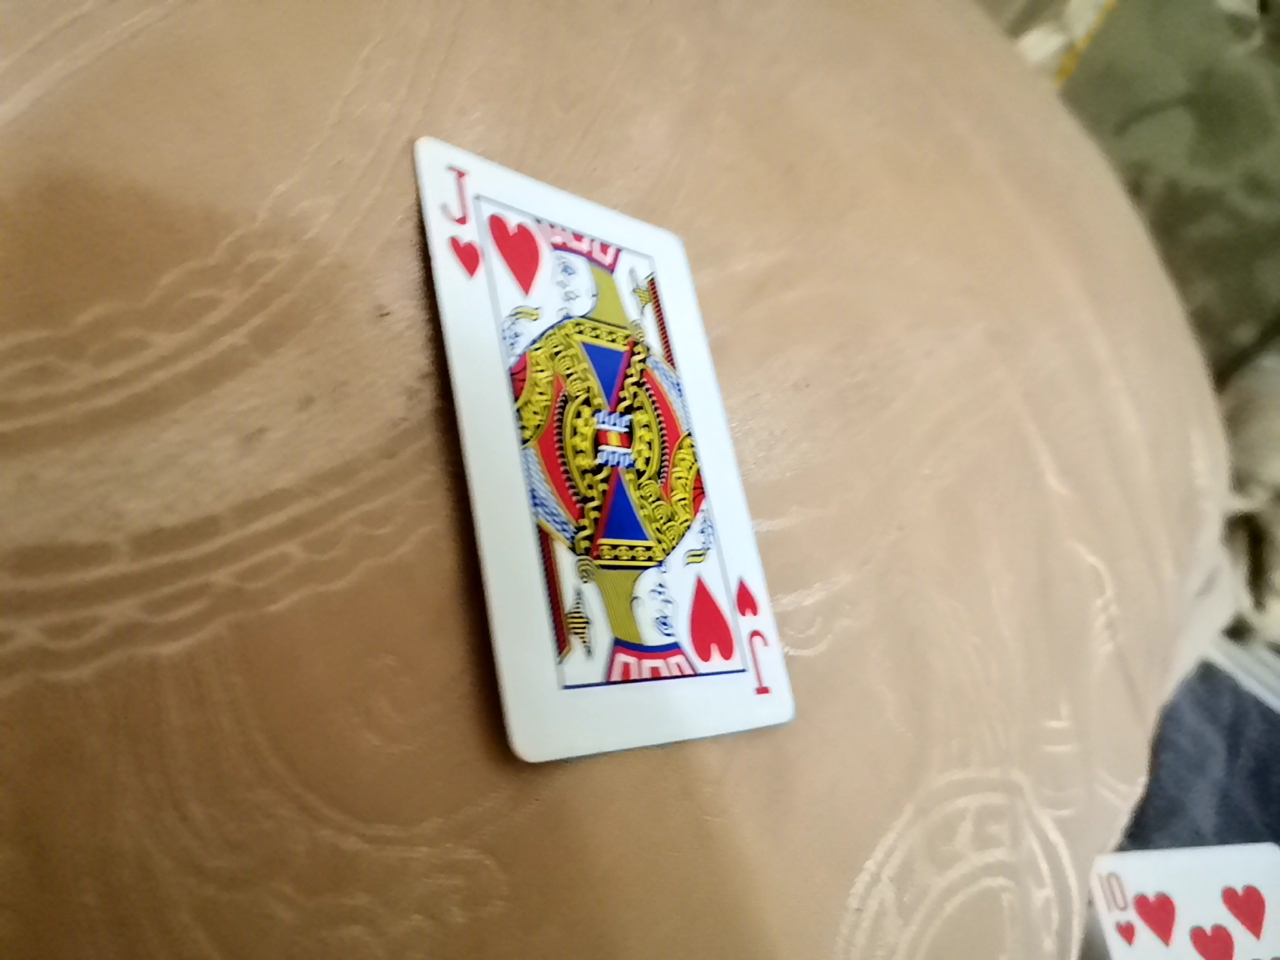hx j: (411, 171, 815, 785)
